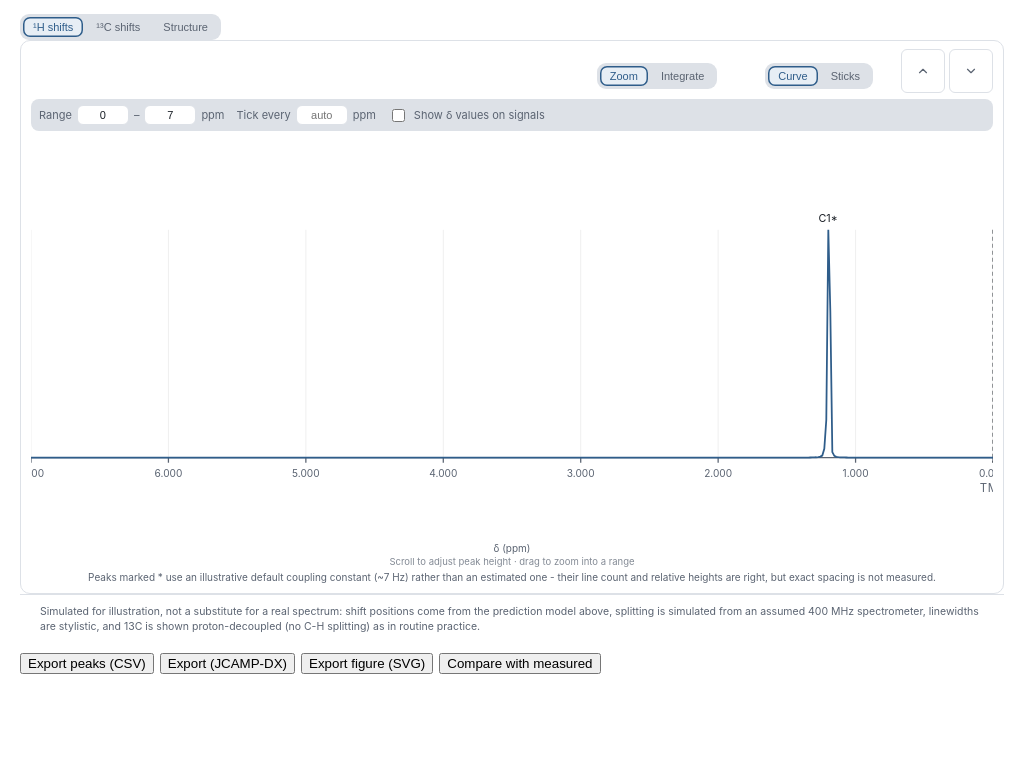
Test: structure overlay drag › starts in the top-right corner
Click the button "Structure" at [186, 27], box [153,17,218,37]
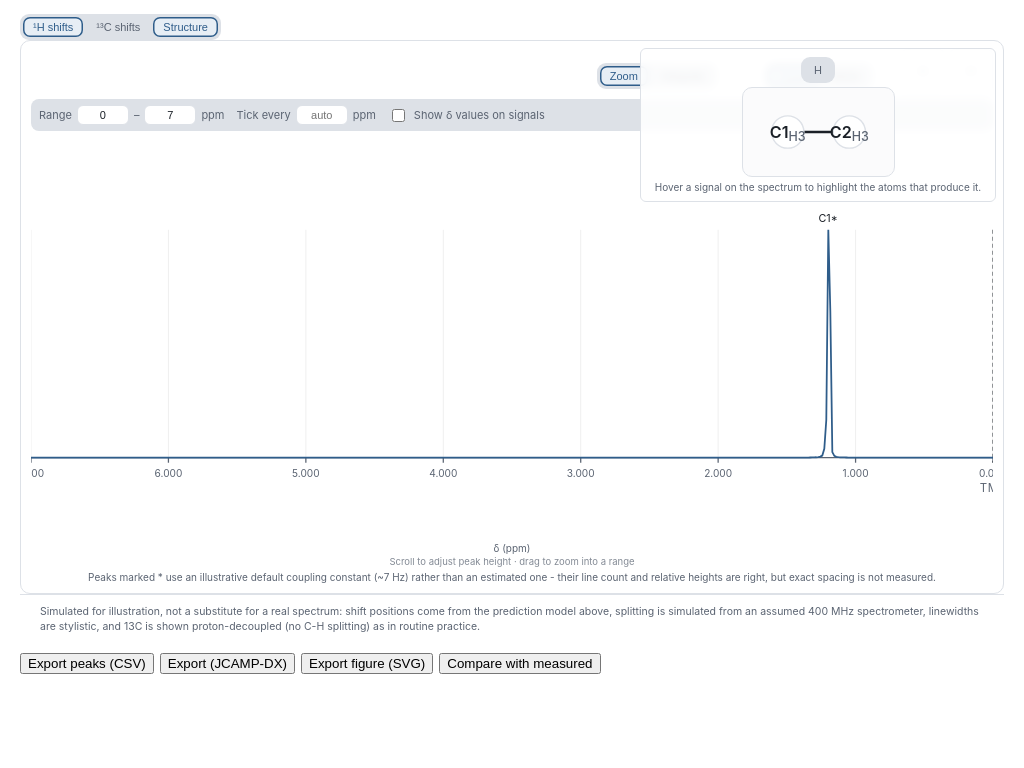
Now the element with class "nmr-spectrum-view__structure" is shown, box [640,48,996,202]
